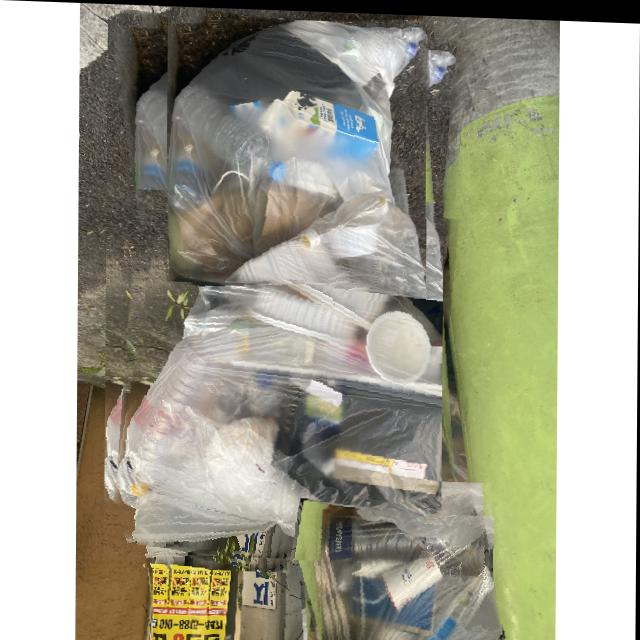other_trashbag: (106, 6, 436, 574), (116, 192, 443, 558), (168, 18, 427, 280), (292, 478, 501, 640), (324, 507, 503, 640)
